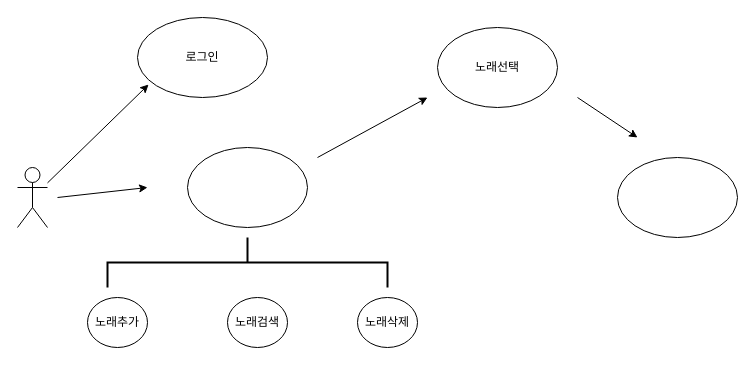
This 755x365 diagram has some shape labels left out. The centre of each missing label's shape, as x and y in pixels:
고객: point (32, 197)
노래메뉴: point (247, 187)
플레이리스트: point (677, 197)
